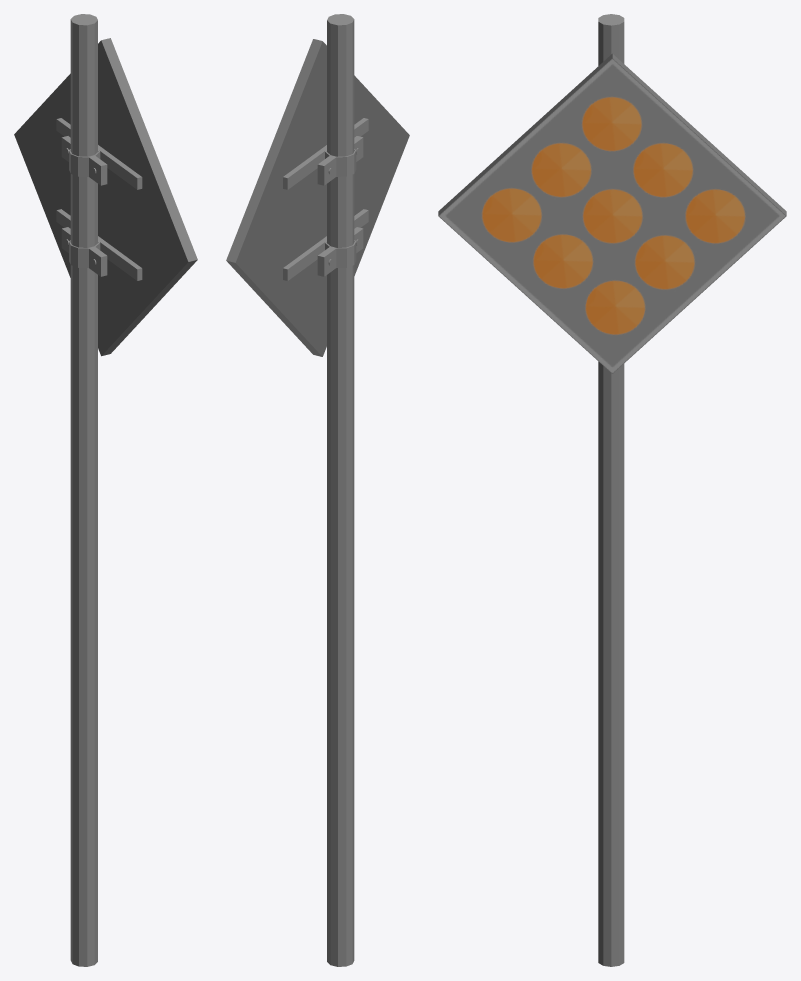
File: obj_sign_2.fbx
The picture shows the model from 3 angles, left to right: view 1: azimuth 30°, elevation 25°; view 2: azimuth 150°, elevation 25°; view 3: azimuth 270°, elevation 25°; orthographic projection.
Visible parts, largest first — view 1: obj_sign_2; view 2: obj_sign_2; view 3: obj_sign_2.
Boxes of the visible parts, x1,y1,x2,y2 form: obj_sign_2: [14, 14, 197, 966]; obj_sign_2: [226, 14, 409, 966]; obj_sign_2: [438, 14, 786, 966].
Bounding box in the file's own units: 0.1073 × 2.39 × 0.8017.
1 material, 1 textured.
